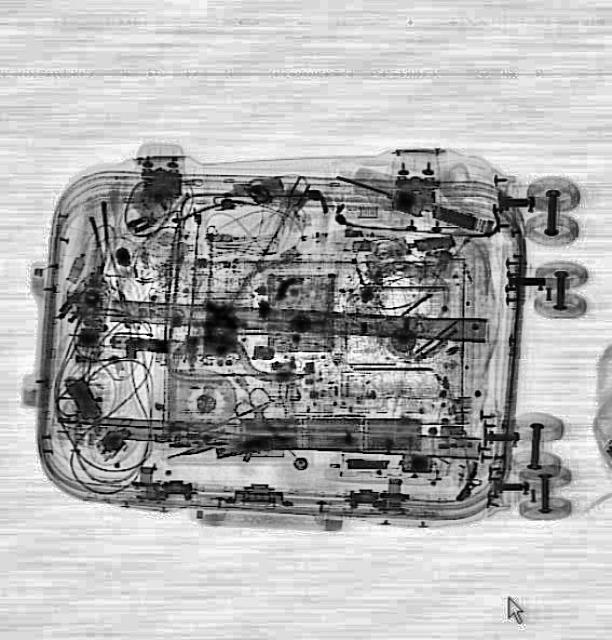Scissors: (228, 382, 312, 468)
